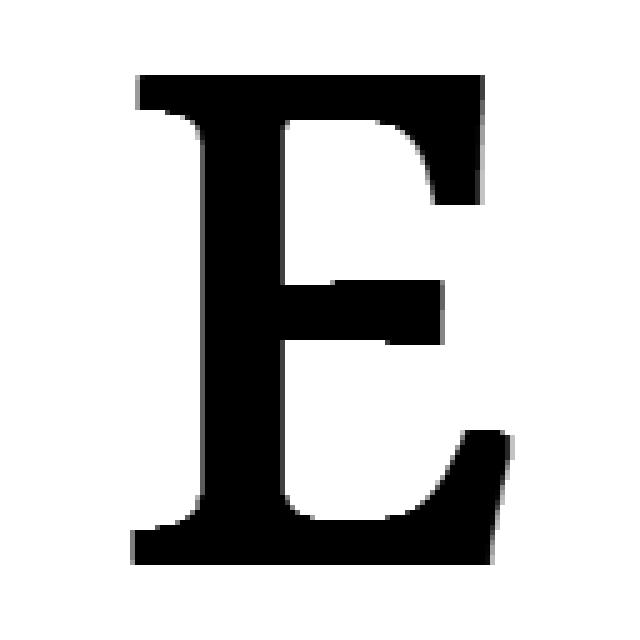E: (130, 75, 510, 565)
